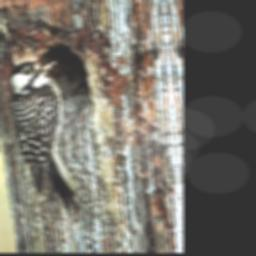Woodpecker: (7, 56, 83, 218)
